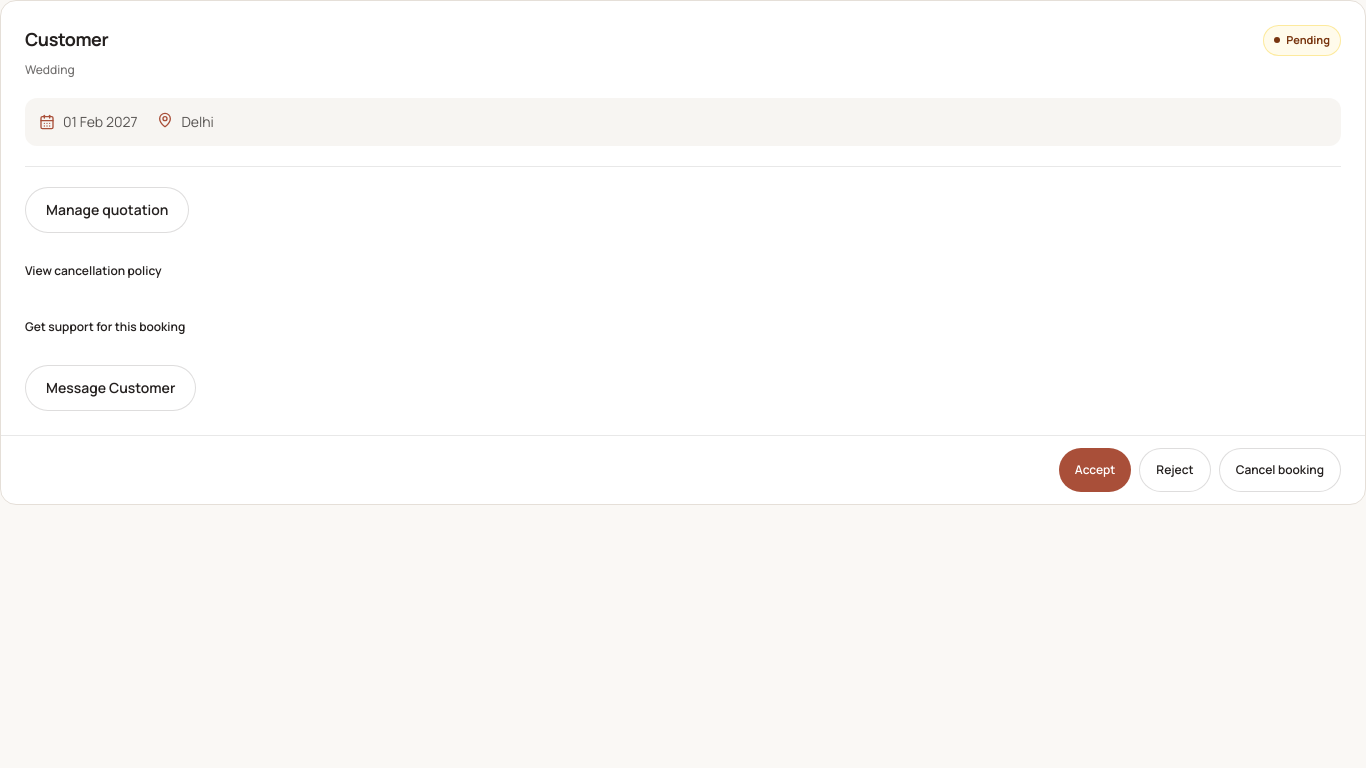
Test case: booking contact visibility › collects a reason before a vendor changes the booking
Click the button "Reject".
click(1175, 470)  # box [1139,448,1211,492]
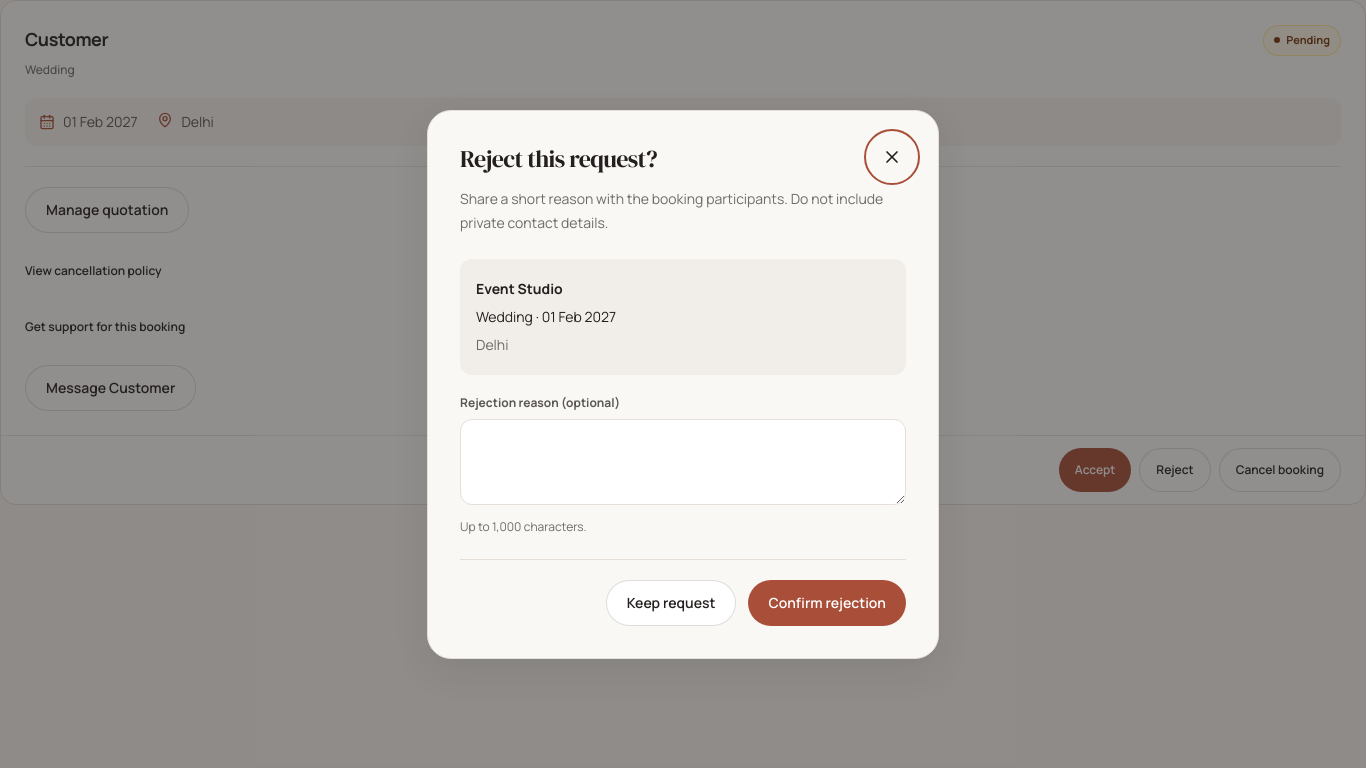
Type "  The event cannot proceed.  " into the text box labelled "Rejection reason (optional)".
click(683, 462); type("  The event cannot proceed.  ")  # box [460,418,906,504]
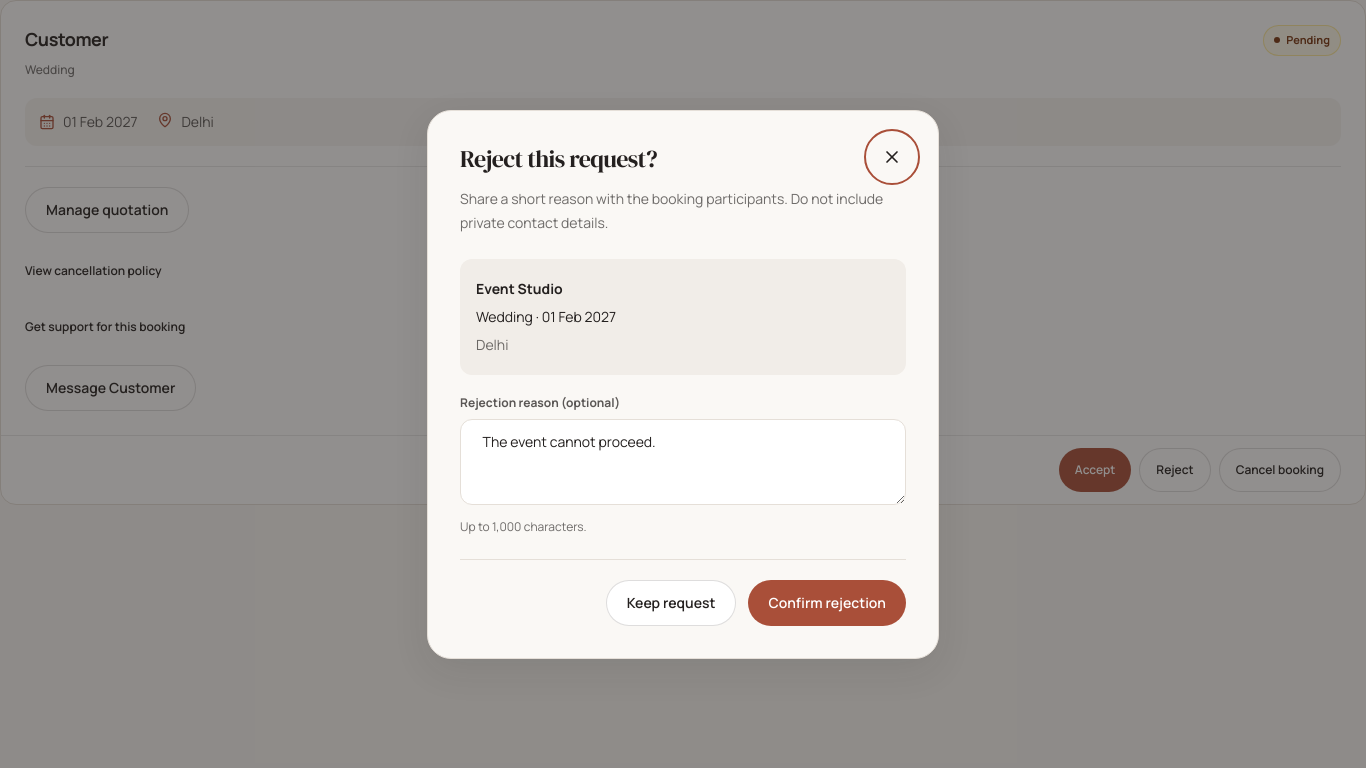
Click the button "Confirm rejection".
click(827, 602)  # box [748,580,906,626]
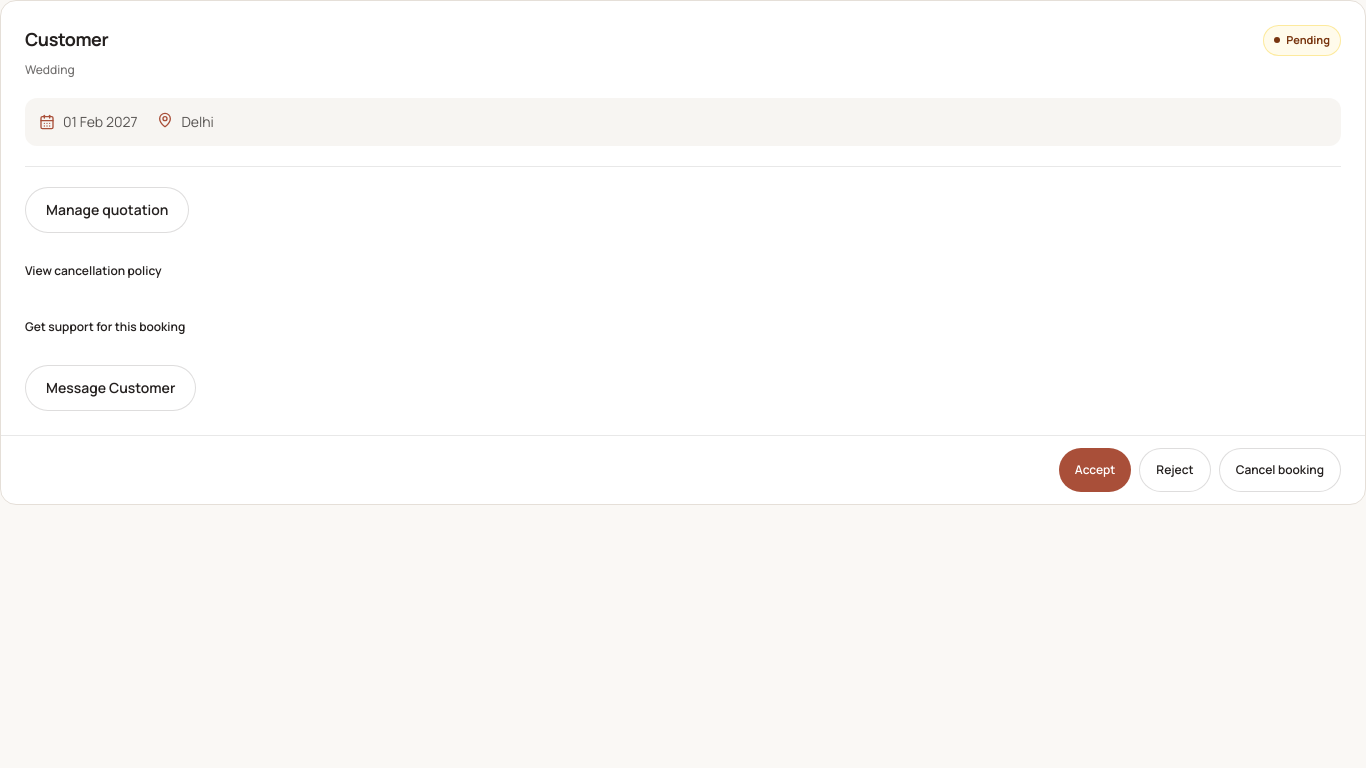
Expected: the dialog is gone
